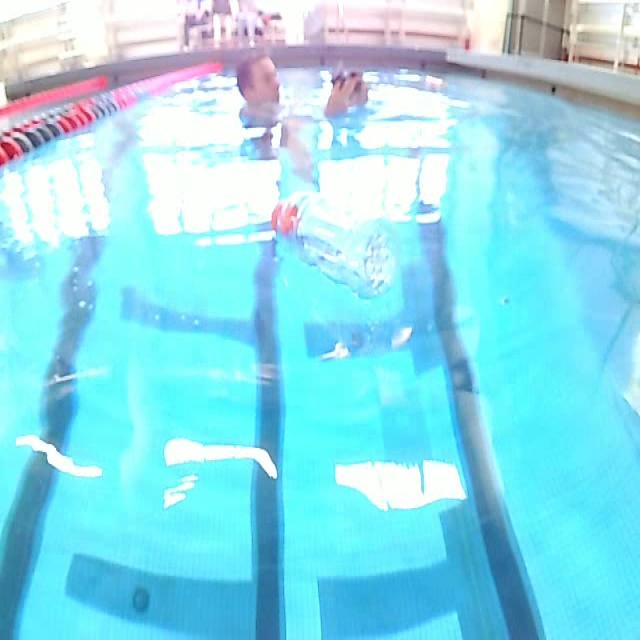Bottle: (265, 195, 397, 302)
